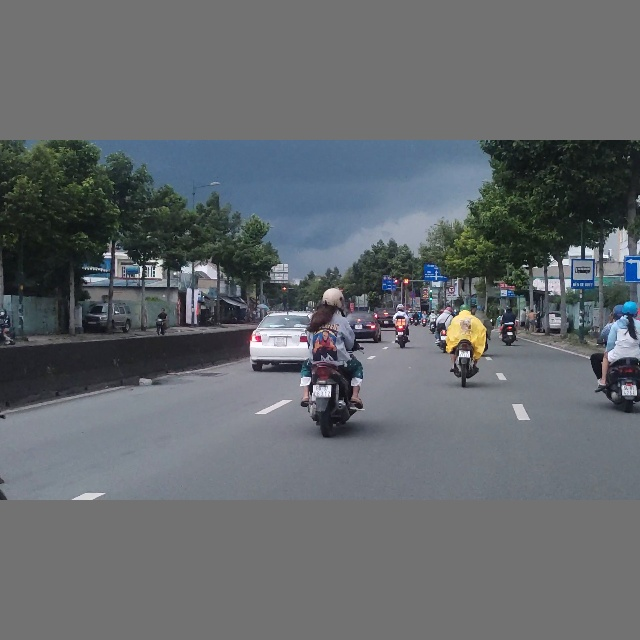I.434a: (571, 258, 595, 288)
P.137: (448, 286, 455, 293)
R.415a: (382, 279, 396, 290)
